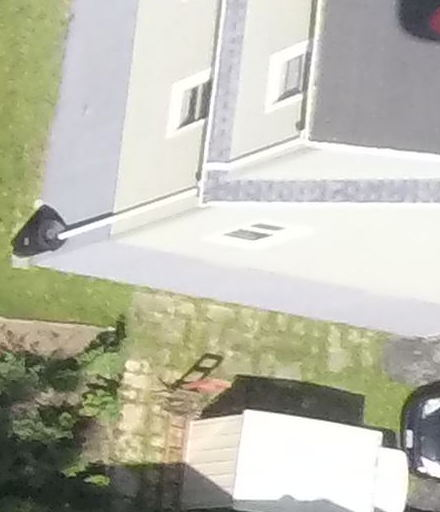ladder: (152, 397, 189, 512)
